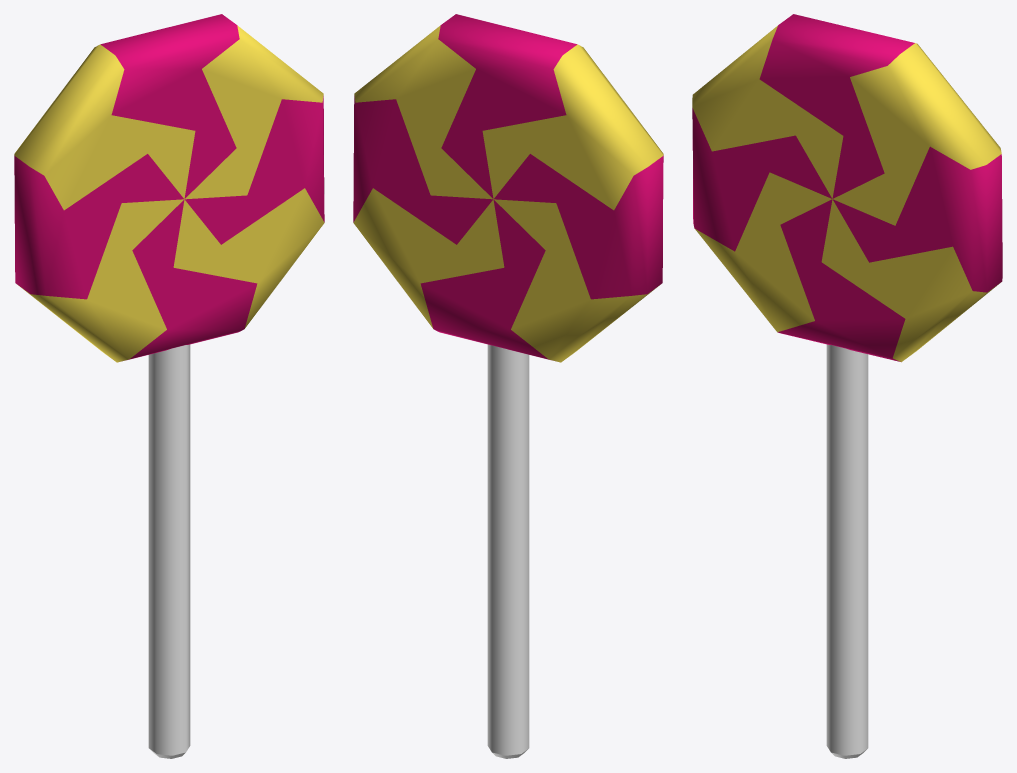
Rendered from Candy_7.fbx.
3 renders of one model, left to right at view 1: azimuth 30°, elevation 25°; view 2: azimuth 150°, elevation 25°; view 3: azimuth 330°, elevation 25°, orthographic.
Parts seen in each view (by area): view 1: Candy_7; view 2: Candy_7; view 3: Candy_7.
Part boxes in pixels (x1,y1,x2,y2): Candy_7: [14, 14, 324, 758]; Candy_7: [353, 14, 663, 758]; Candy_7: [692, 14, 1002, 758].
Size of the model in its own units: 1.22 by 2.85 by 0.2159.
